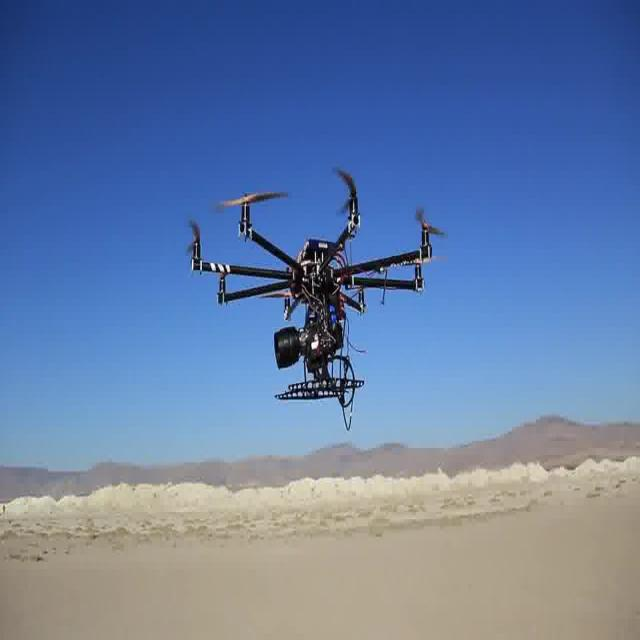drone: (181, 162, 447, 413)
